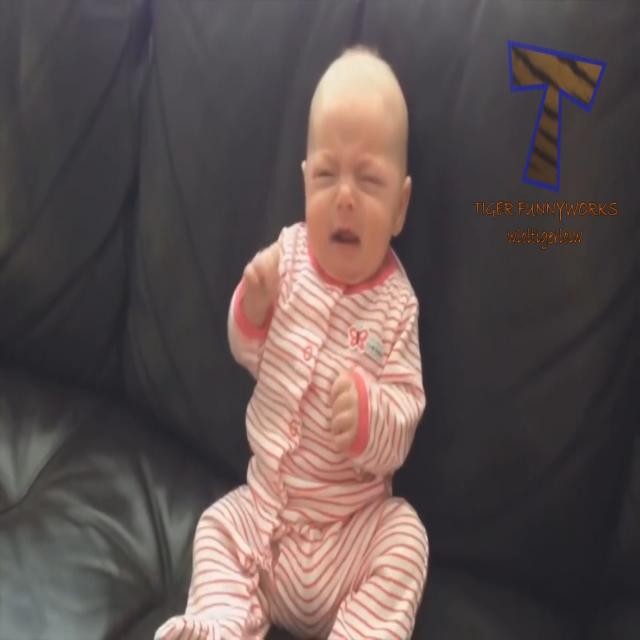dangerous: (239, 24, 424, 547)
